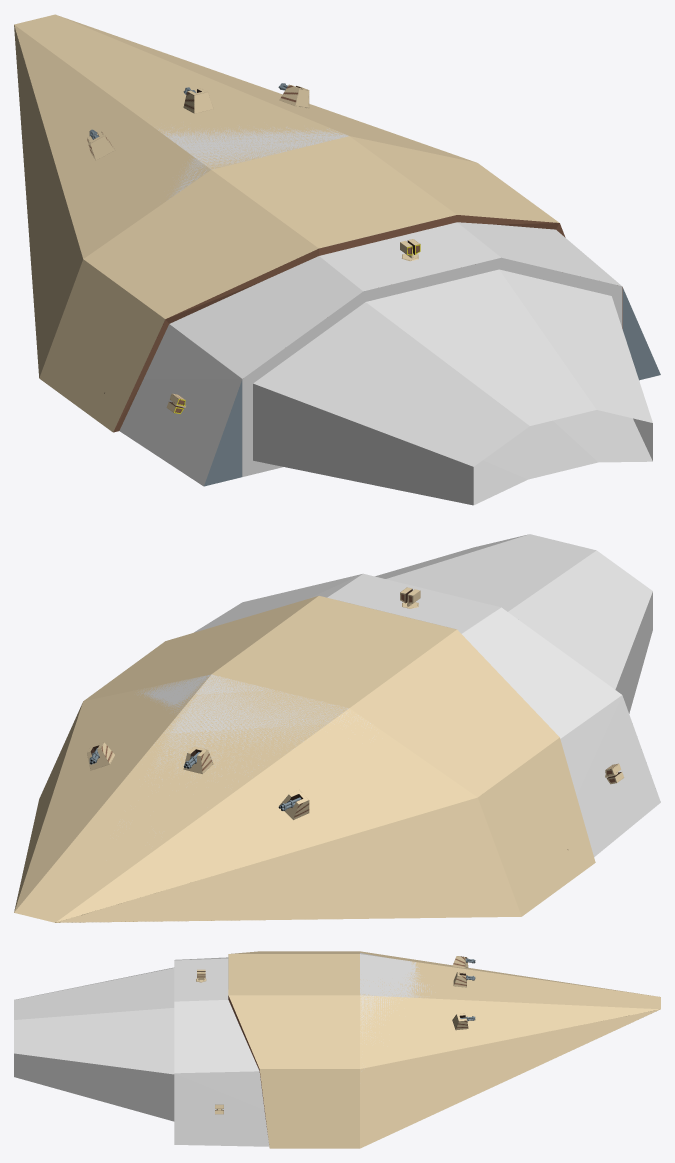
The picture shows the model from 3 angles, top to bottom: view 1: azimuth 30°, elevation 25°; view 2: azimuth 150°, elevation 25°; view 3: azimuth 270°, elevation 25°; orthographic projection. The views are drawn at different scales.
Parts seen in each view (by area): view 1: Fuselage, Exhaust, Fuselage Extents, Debris Mesh.000; view 2: Fuselage, Fuselage Extents, Exhaust, Debris Mesh.000; view 3: Fuselage, Exhaust, Fuselage Extents, Debris Mesh.000.
Part boxes in pixels (x1,y1,x2,y2): Fuselage: [14, 14, 660, 486]; Exhaust: [253, 269, 652, 505]; Fuselage Extents: [119, 126, 622, 486]; Debris Mesh.000: [159, 121, 452, 253]; Fuselage: [14, 596, 595, 922]; Fuselage Extents: [119, 573, 660, 856]; Exhaust: [375, 534, 652, 713]; Debris Mesh.000: [121, 596, 456, 787]; Fuselage: [228, 951, 660, 1148]; Exhaust: [14, 967, 174, 1121]; Fuselage Extents: [174, 953, 435, 1146]; Debris Mesh.000: [228, 973, 426, 1147].
Size of what is drawn, in the model's own units: 25.18 by 47.78 by 8.55.
Materials: 5 (5 with a texture image).
